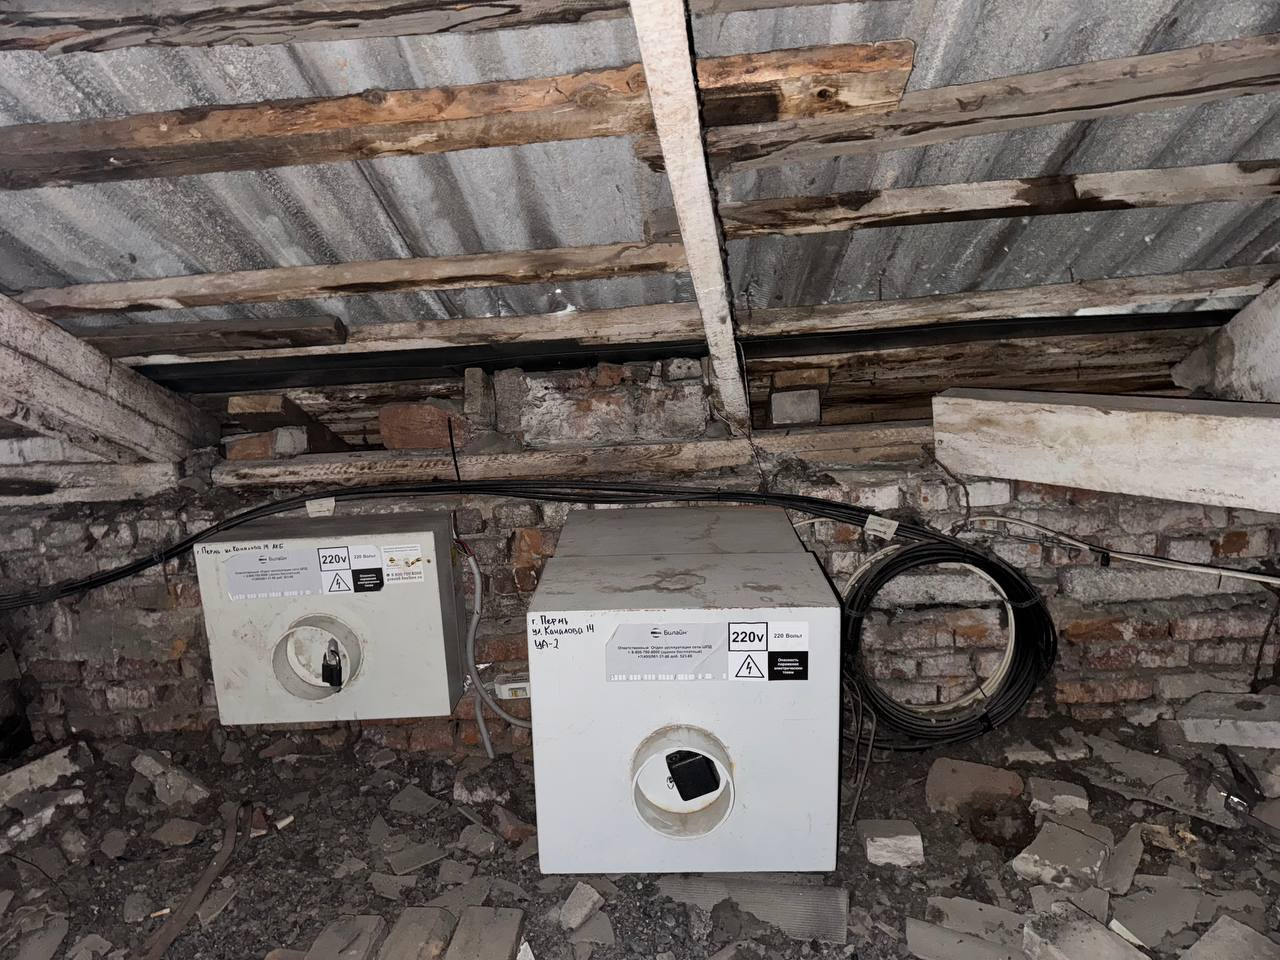shta-9: (518, 499, 850, 879)
shta-ps: (187, 507, 478, 726)
